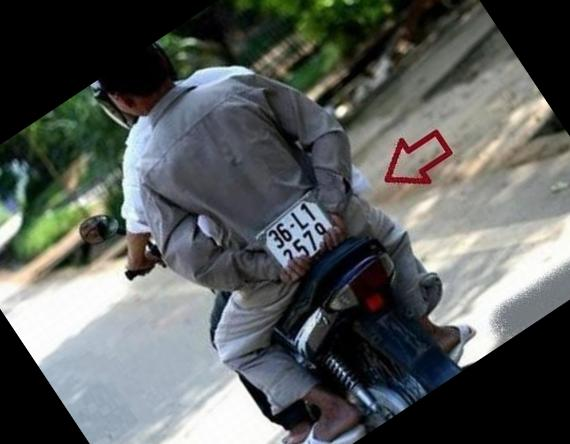plate: (258, 192, 341, 270)
